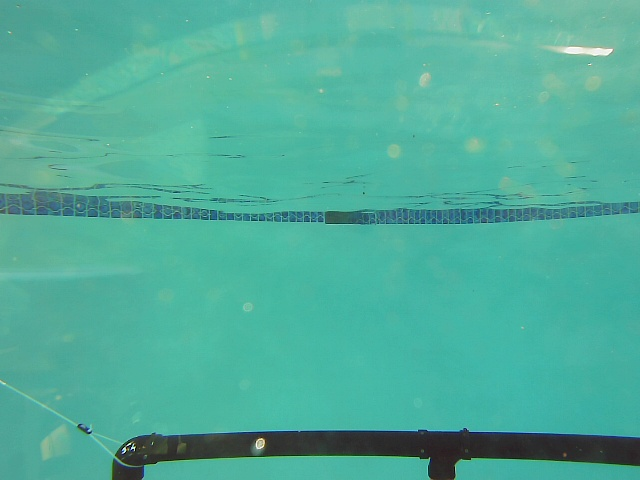Gate: (421, 464, 466, 480), (109, 469, 147, 480)
